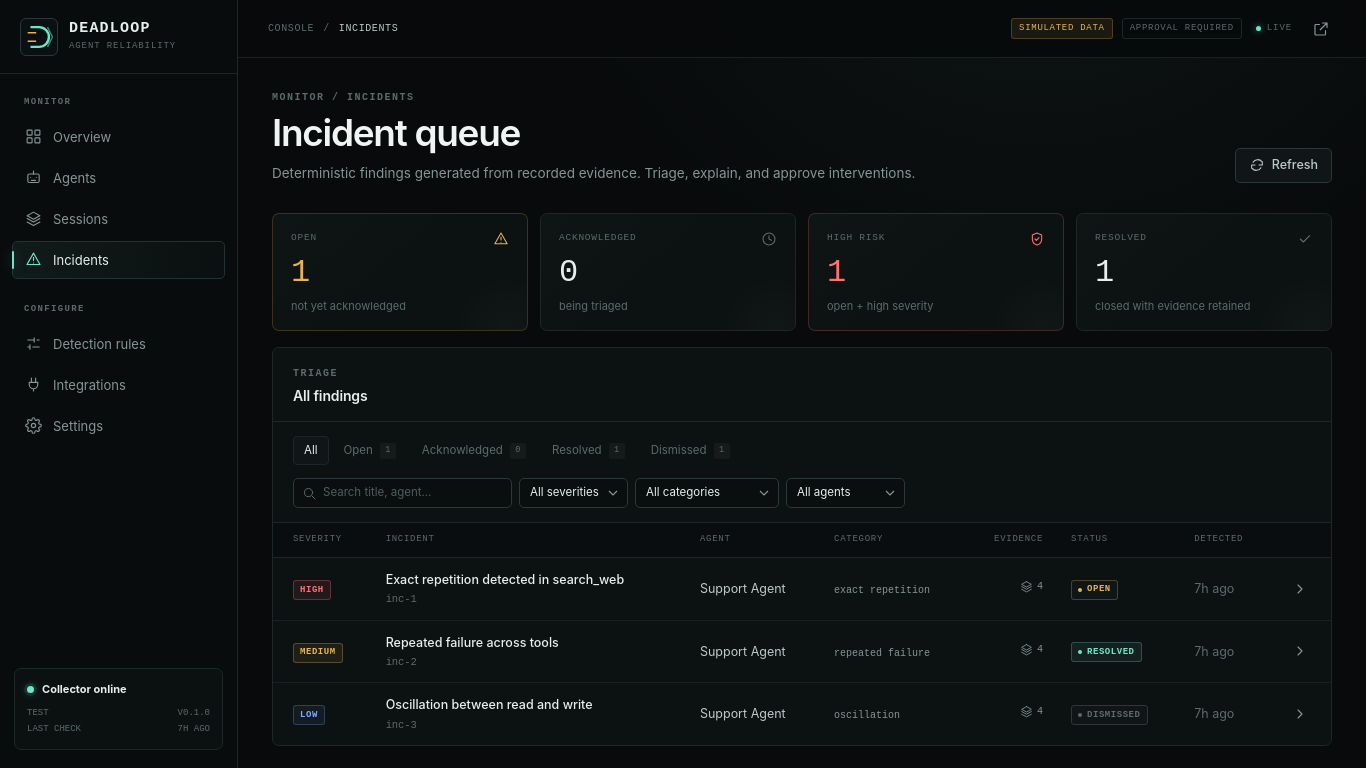
DEADLOOP console › filters incidents by status and search text
Expected: the link "Exact repetition detected in search_web" is shown, x1=386 y1=572 x2=624 y2=587
Expected: the link "Repeated failure across tools" is shown, x1=386 y1=635 x2=559 y2=650
Click the tab "resolved 1" at (588, 450), box x1=541 y1=436 x2=636 y2=465
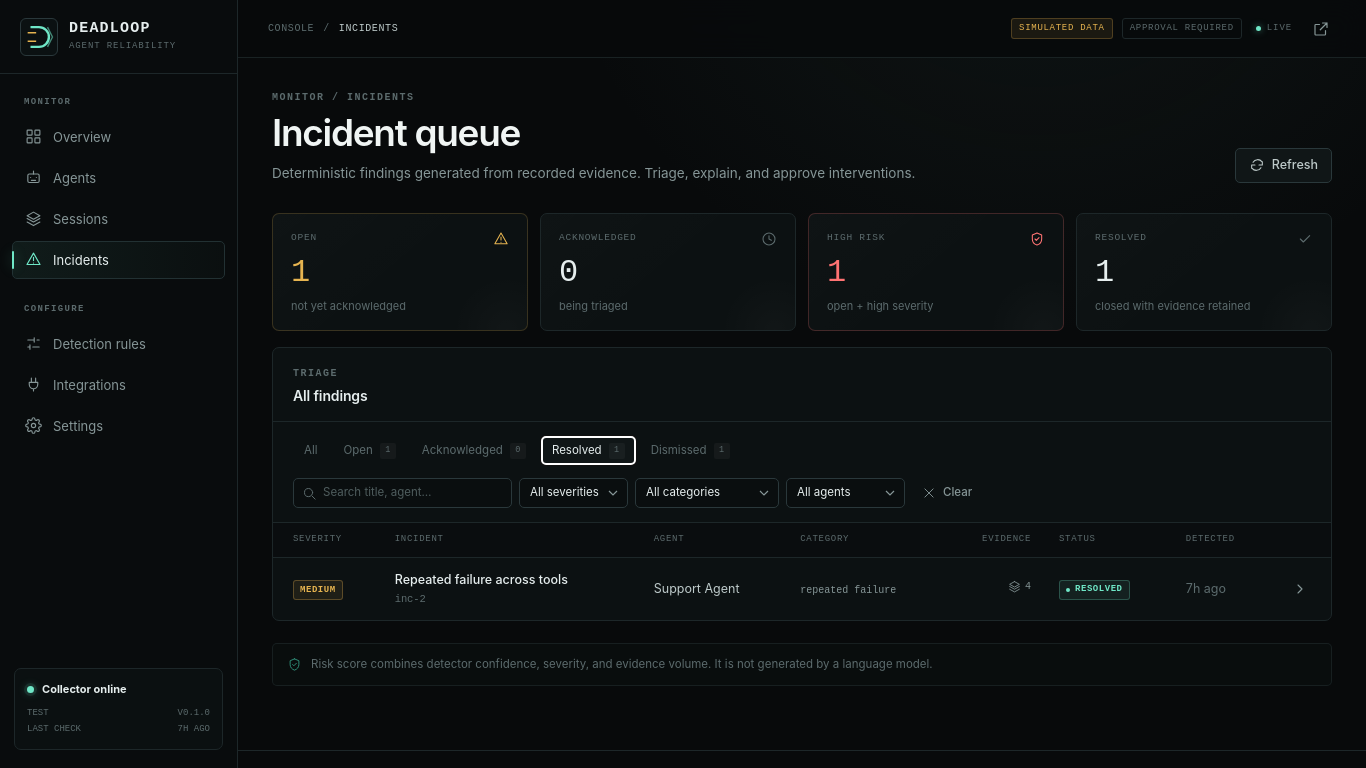
Expected: the link "Repeated failure across tools" is shown, x1=395 y1=572 x2=568 y2=587
Expected: the link "Exact repetition detected in search_web" is gone
Click the tab "All" at (311, 450), box x1=293 y1=436 x2=328 y2=465
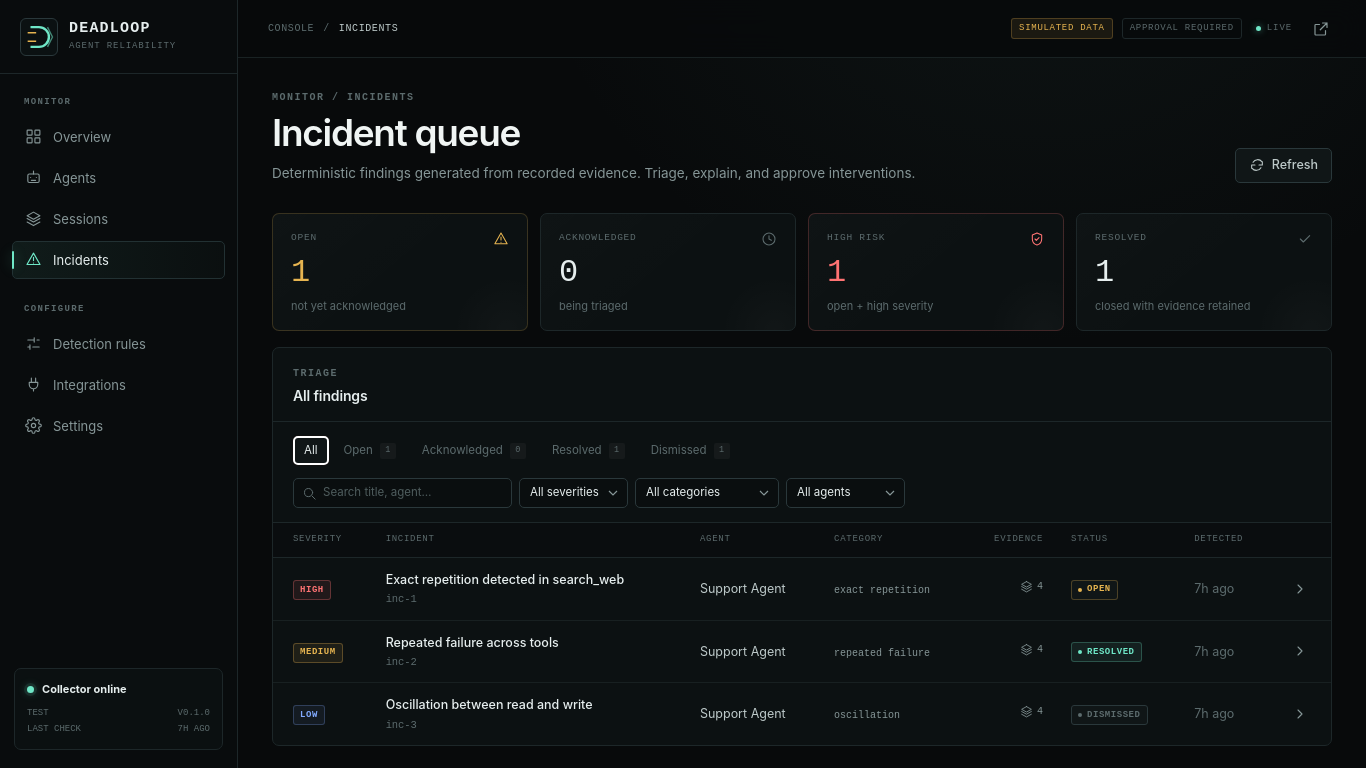
Type "oscillation" into the field named "Search incidents" at (402, 493), box x1=293 y1=478 x2=512 y2=508
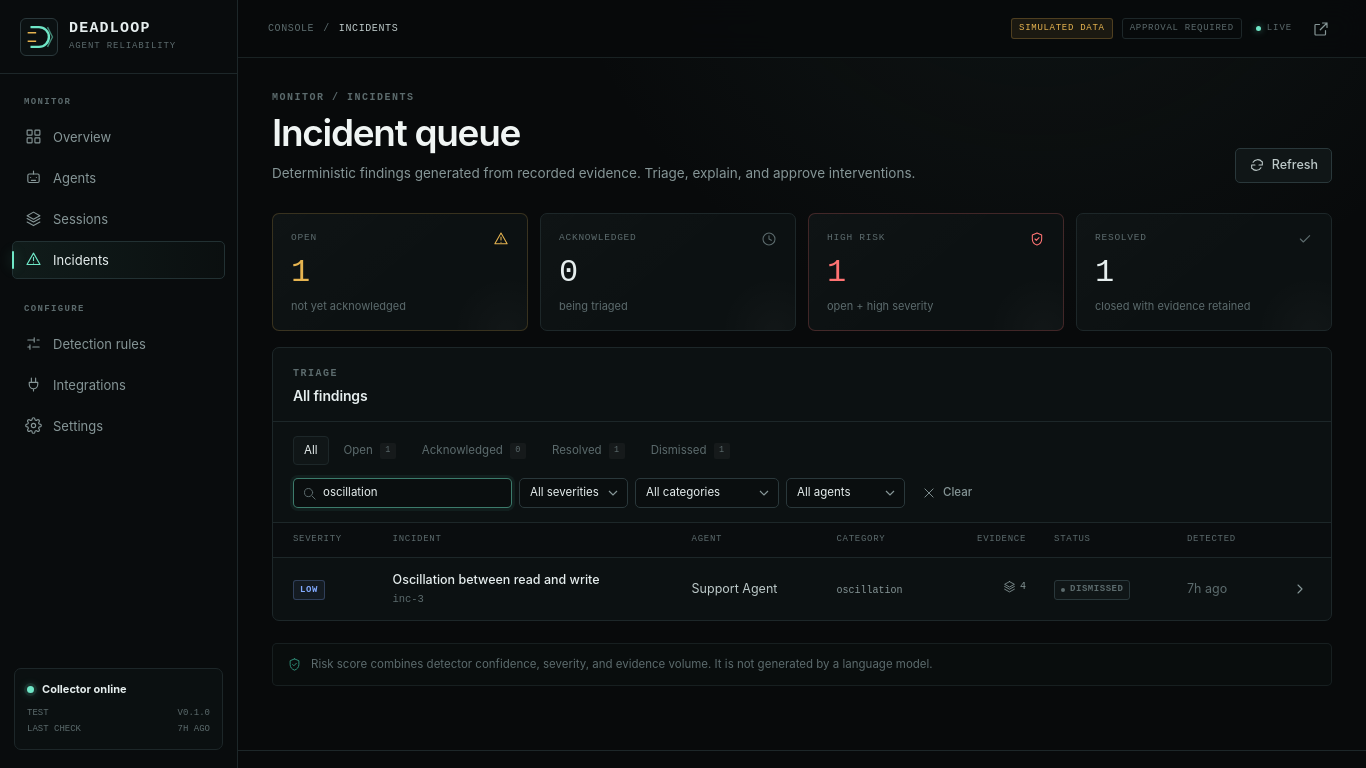
Expected: the link "Oscillation between read and write" is shown, x1=393 y1=572 x2=600 y2=587
Expected: the link "Repeated failure across tools" is gone
